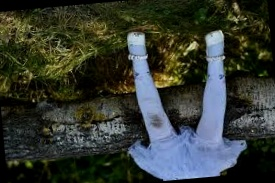earth: (151, 113, 162, 130)
